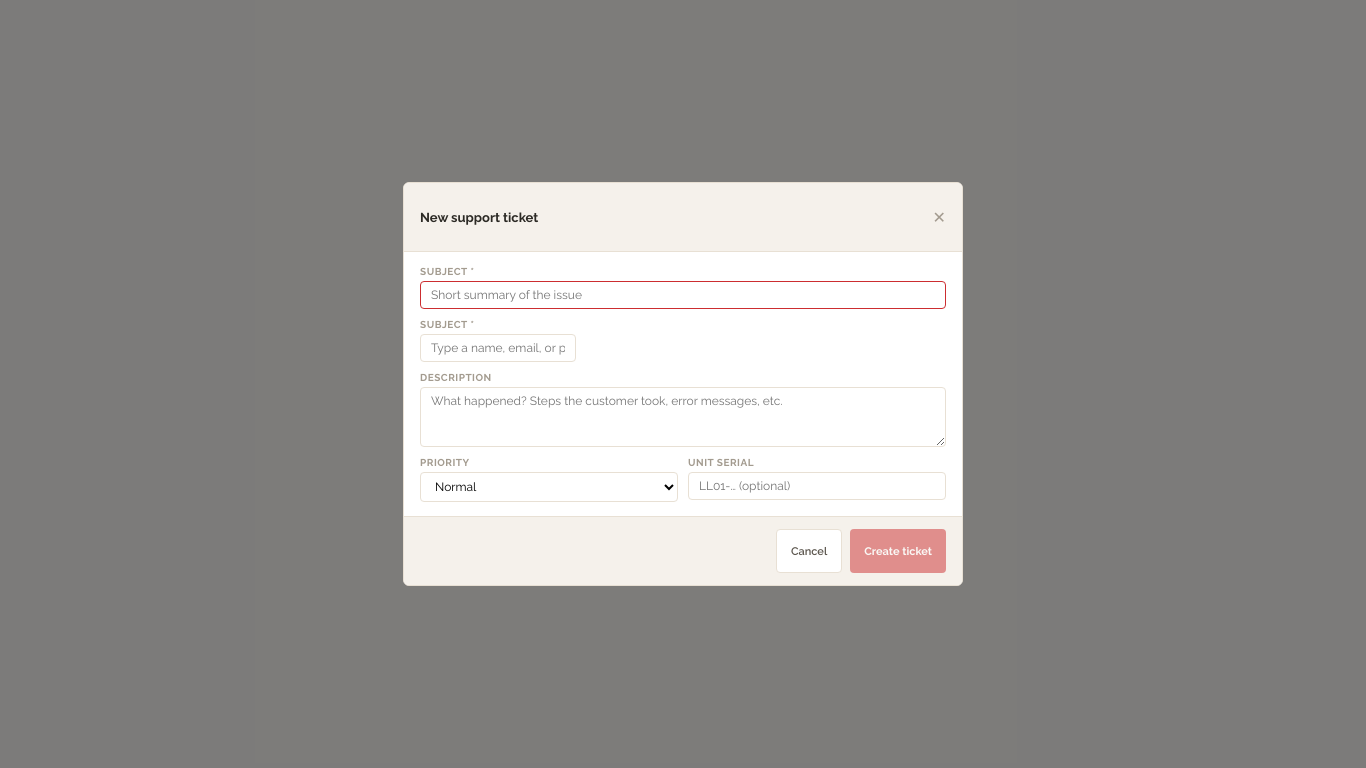
Scenario: NewTicketModal — team members › auto-fills a team member's unit when one already records them
Type "Lid stuck" into the field with placeholder "Short summary of the issue".
click(683, 295); type("Lid stuck")  # box top-left (420, 281), bottom-right (946, 309)
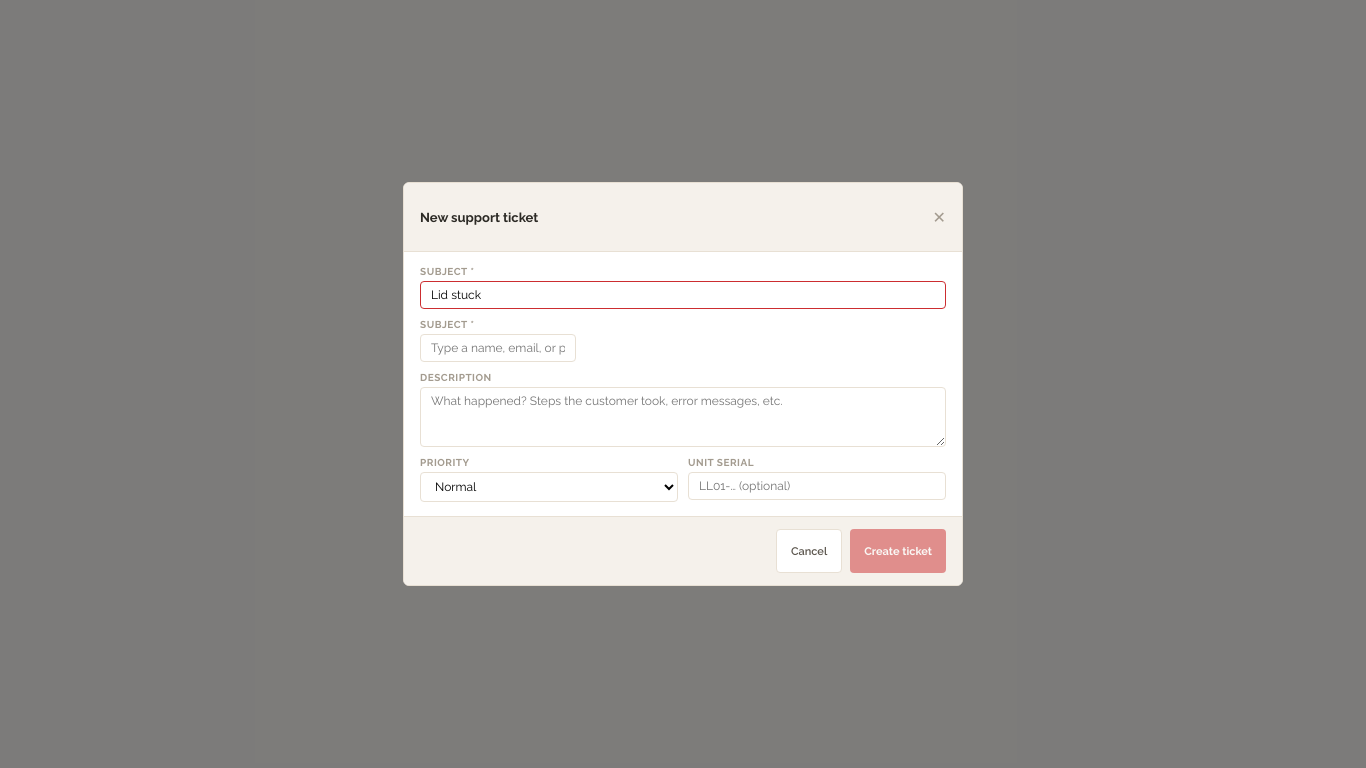
Type "junaid" into the field with placeholder "Type a name, email, or phone…".
click(498, 348); type("junaid")  # box top-left (420, 334), bottom-right (576, 362)
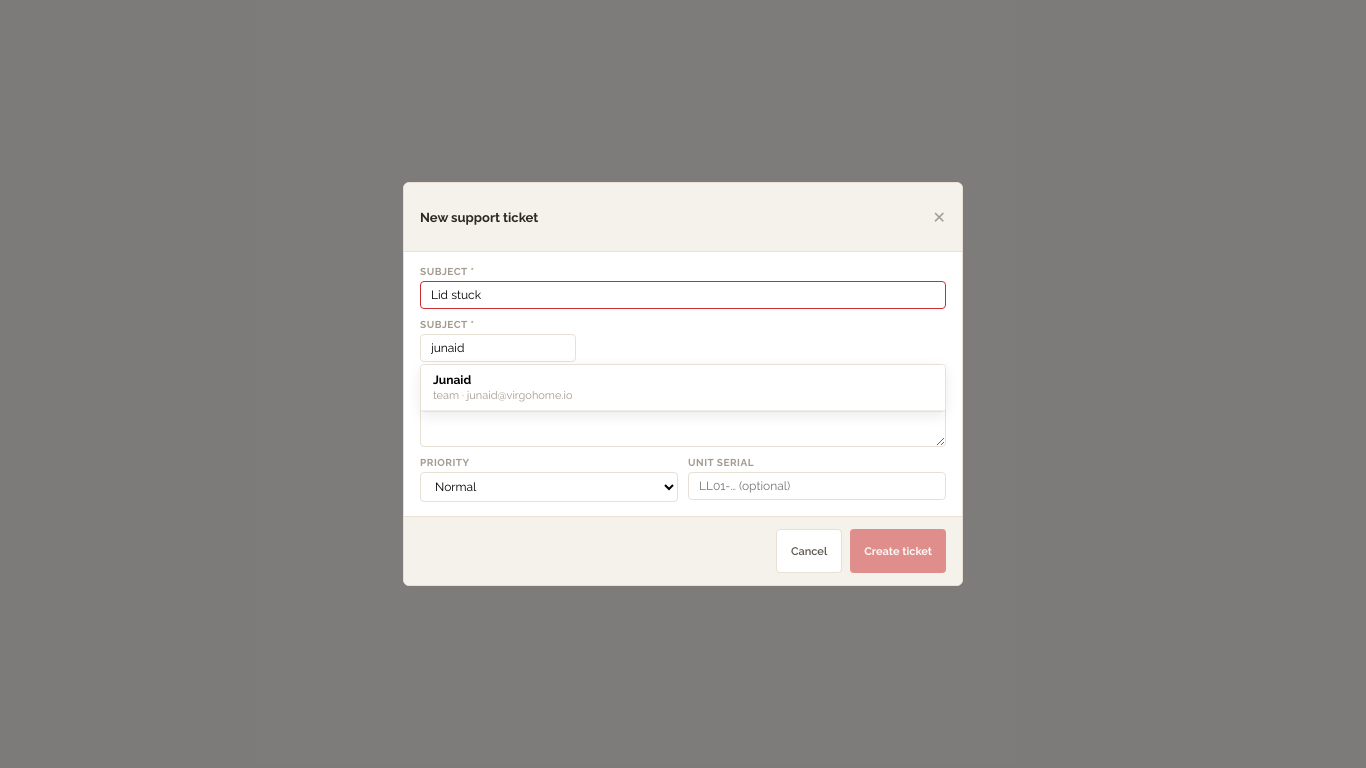
Click the button "Junaid team · junaid@virgohome.io".
click(452, 380)  # box top-left (421, 365), bottom-right (945, 411)
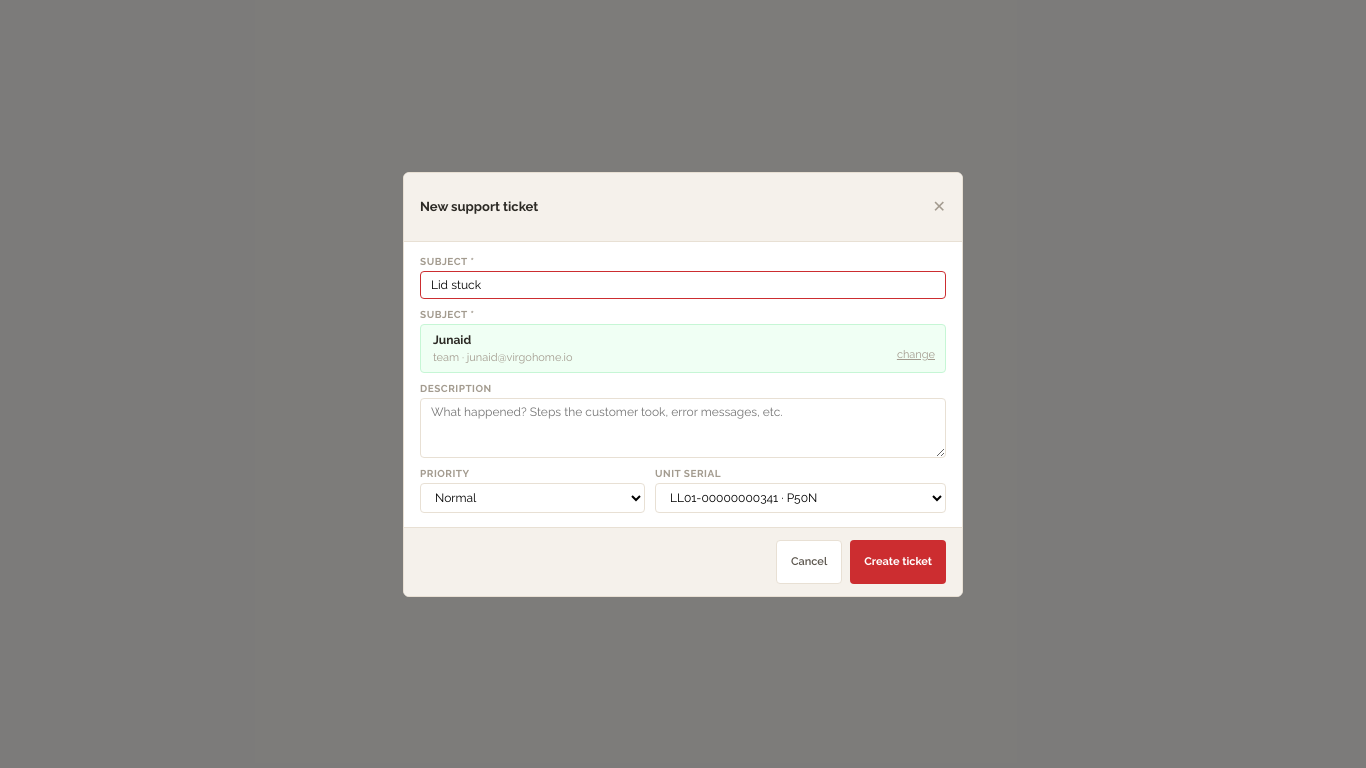
Expected: the dropdown labelled "Unit serial" shows "LL01-00000000341 · P50N", top-left (655, 482), bottom-right (946, 512)
